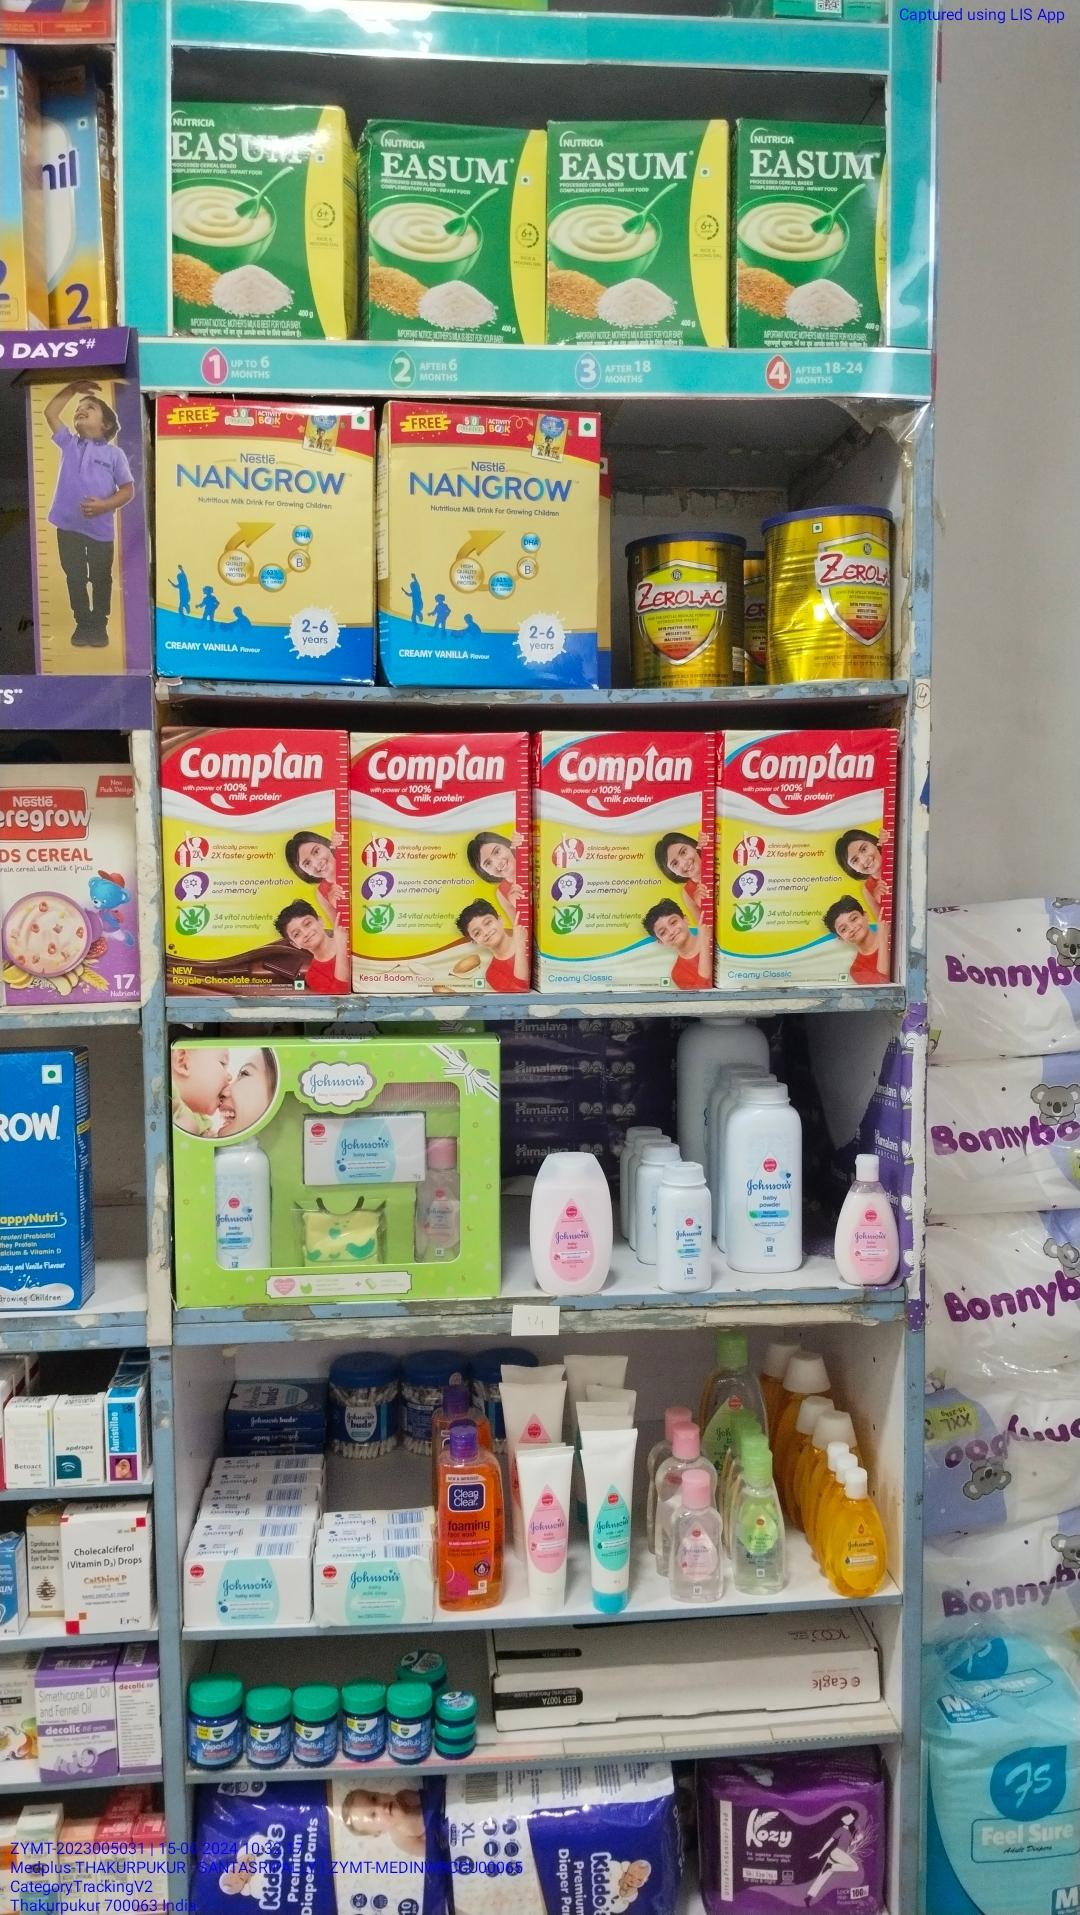COMPLAN_CHOCOLATE_500_GMS_PACK: (160, 727, 353, 993)
COMPLAN_CREAMY_CLASSIC_500_G_PACK: (538, 734, 716, 998), (720, 731, 891, 986)
COMPLAN_KESAR_BADAM_500_GMS_PACK: (358, 734, 533, 992)
